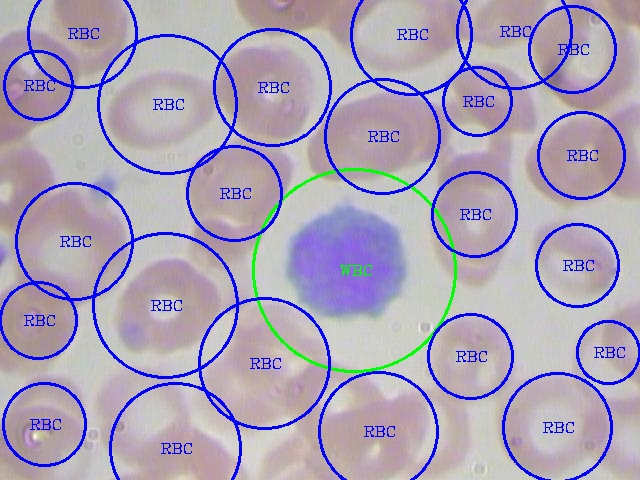Platelets: (85, 166, 123, 202)
RBC: (6, 186, 133, 307), (89, 359, 199, 467), (491, 369, 604, 474), (300, 93, 440, 177), (533, 1, 639, 111), (210, 37, 322, 139), (101, 60, 219, 154), (111, 255, 221, 354), (178, 133, 294, 226), (281, 355, 389, 453), (429, 174, 515, 285), (424, 309, 520, 405), (194, 344, 294, 434), (1, 24, 87, 127), (524, 211, 620, 303), (331, 0, 448, 75), (0, 264, 84, 366), (564, 309, 639, 418), (449, 55, 542, 138), (386, 384, 469, 477), (528, 120, 604, 204), (46, 0, 134, 72), (135, 422, 245, 478), (581, 390, 639, 477), (439, 108, 509, 180), (592, 97, 639, 201)
WBC: (279, 195, 415, 324)
